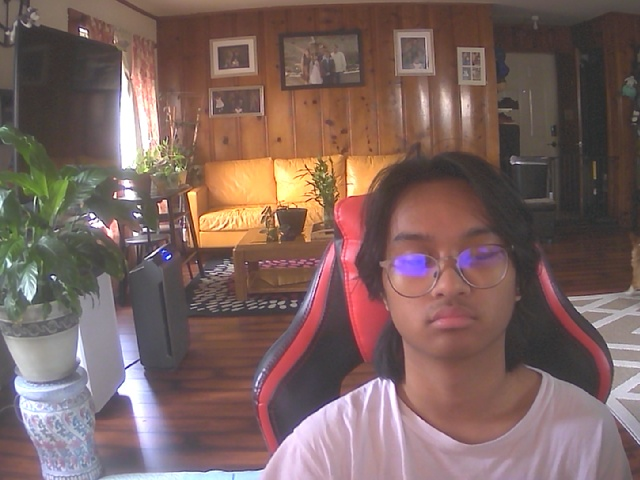neutral: (375, 164, 531, 364)
